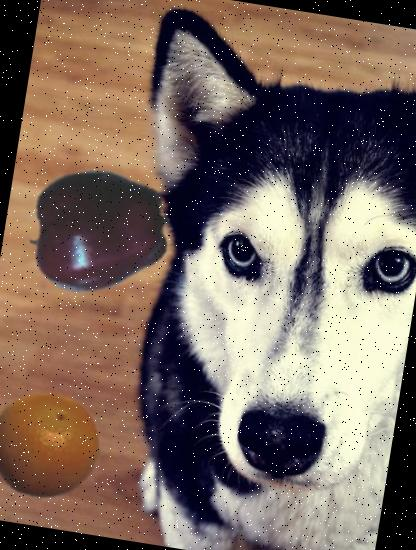Apple: (16, 148, 180, 312)
Grapefruit: (0, 382, 108, 510)
